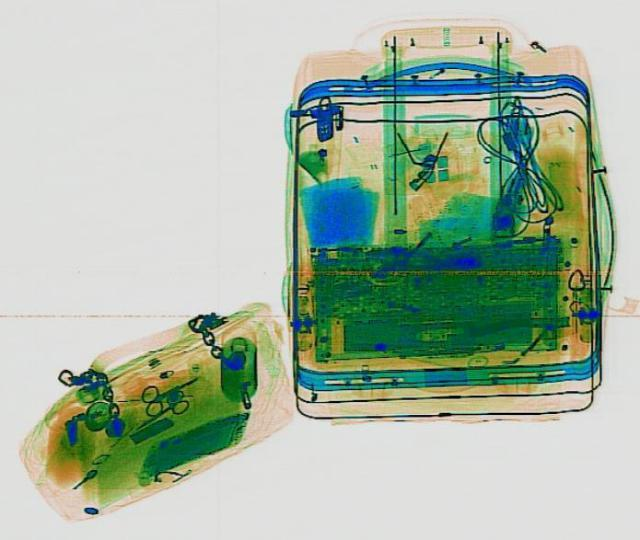Scissors: (129, 366, 207, 415), (124, 386, 196, 433)
